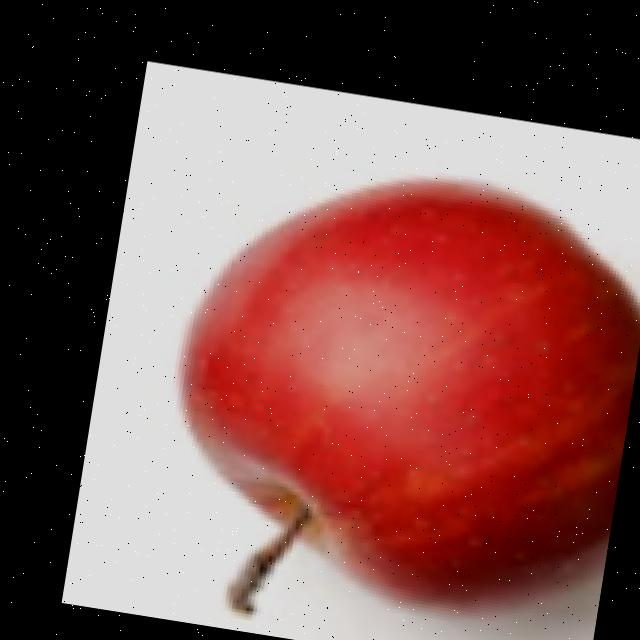Ripe: (136, 132, 640, 640)
